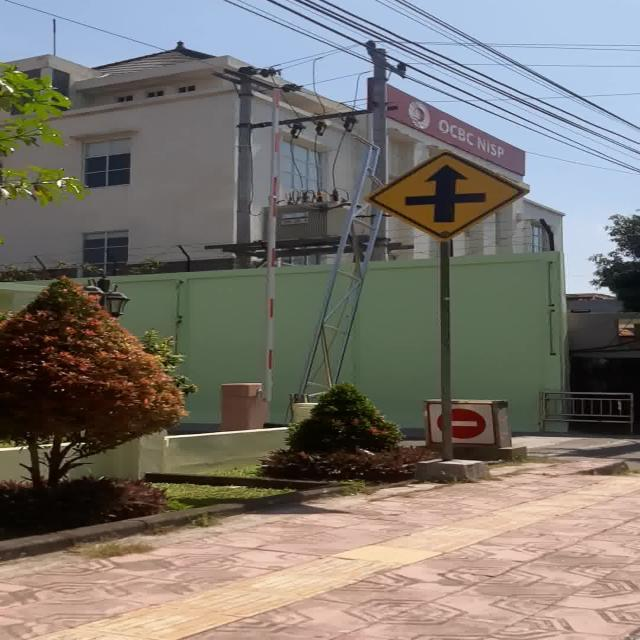Persimpangan 3 Prioritas: (364, 149, 531, 243)
